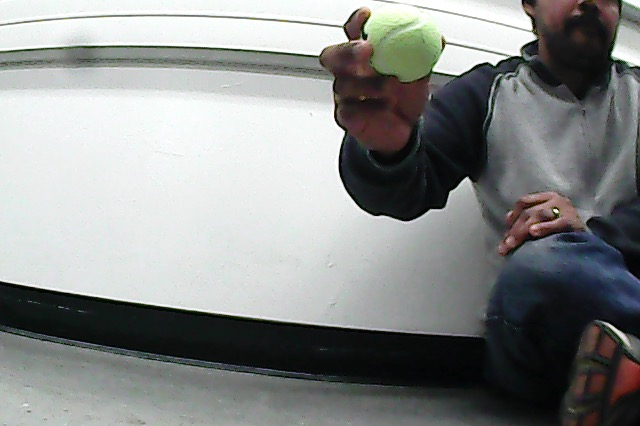ball: (361, 4, 444, 85)
